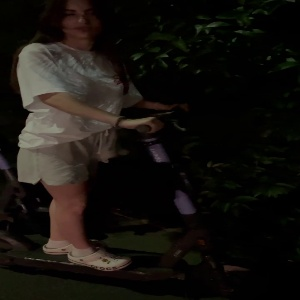human on a scooter: (1, 1, 250, 295)
